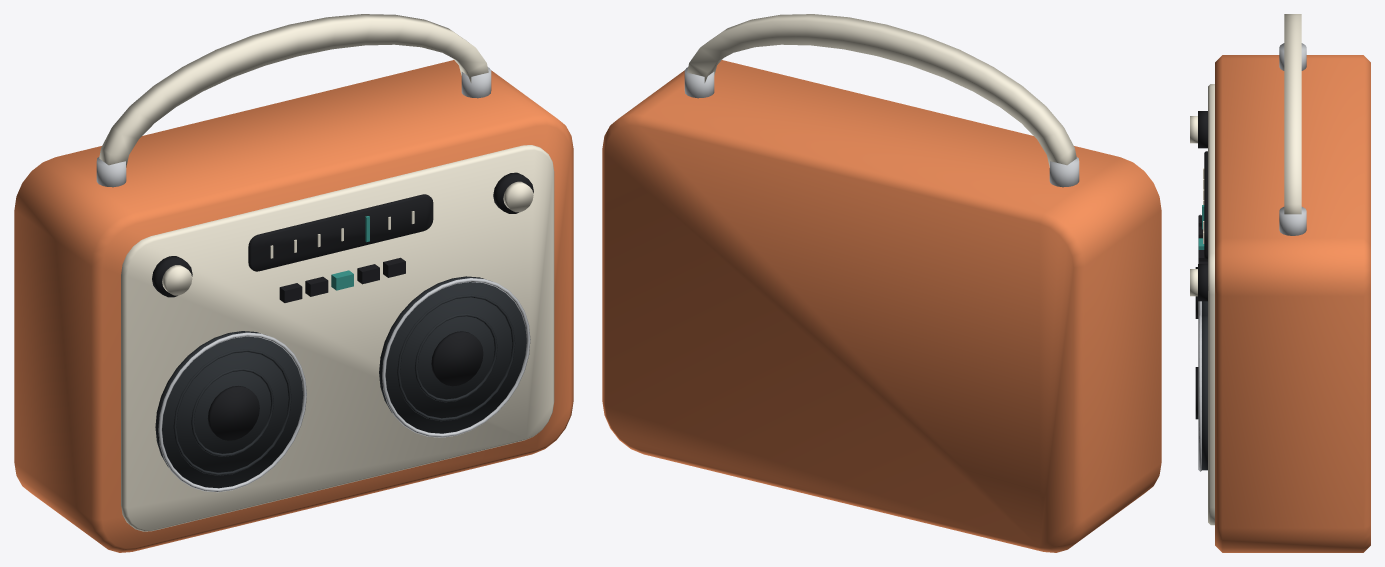
Rendered from radio.glb.
3 views of the same model, side by side, from view 1: azimuth 30°, elevation 25°; view 2: azimuth 150°, elevation 25°; view 3: azimuth 270°, elevation 25° (orthographic). The views are drawn at different scales.
Visible parts, largest first — view 1: Radio | body, Radio | front panel, Speaker | right grille, Speaker | left grille, Handle | arched bar, Controls | tuning window, Speaker | right cone, Speaker | left cone, Speaker | left chrome ring, Speaker | right chrome ring, Speaker | left grille detail 2, Speaker | right grille detail 2 (+6 smaller); view 2: Radio | body, Handle | arched bar, Handle | left post, Handle | right post; view 3: Radio | body, Handle | arched bar, Radio | front panel, Speaker | right grille, Handle | right post, Speaker | right chrome ring, Controls | tuning window, Controls | left knob base, Controls | right knob base, Handle | left post.
Part boxes in pixels (x1=…): Radio | body: x1=14, y1=60, x2=573, y2=552; Radio | front panel: x1=121, y1=145, x2=554, y2=531; Speaker | right grille: x1=379, y1=276, x2=526, y2=433; Speaker | left grille: x1=155, y1=331, x2=303, y2=488; Handle | arched bar: x1=99, y1=14, x2=488, y2=167; Controls | tuning window: x1=248, y1=194, x2=433, y2=271; Speaker | right cone: x1=431, y1=331, x2=483, y2=386; Speaker | left cone: x1=207, y1=386, x2=259, y2=440; Speaker | left chrome ring: x1=158, y1=332, x2=306, y2=492; Speaker | right chrome ring: x1=382, y1=278, x2=530, y2=437; Speaker | left grille detail 2: x1=173, y1=349, x2=291, y2=475; Speaker | right grille detail 2: x1=397, y1=294, x2=515, y2=421; Radio | body: x1=602, y1=60, x2=1161, y2=552; Handle | arched bar: x1=687, y1=14, x2=1076, y2=167; Handle | left post: x1=1049, y1=157, x2=1079, y2=187; Handle | right post: x1=684, y1=67, x2=714, y2=98; Radio | body: x1=1215, y1=55, x2=1370, y2=552; Handle | arched bar: x1=1284, y1=14, x2=1301, y2=214; Radio | front panel: x1=1208, y1=84, x2=1214, y2=525; Speaker | right grille: x1=1202, y1=316, x2=1207, y2=470; Handle | right post: x1=1279, y1=207, x2=1306, y2=235; Speaker | right chrome ring: x1=1198, y1=314, x2=1201, y2=471; Controls | tuning window: x1=1204, y1=151, x2=1207, y2=259; Controls | left knob base: x1=1198, y1=111, x2=1207, y2=148; Controls | right knob base: x1=1198, y1=264, x2=1207, y2=301; Handle | left post: x1=1279, y1=43, x2=1306, y2=70.
Size of the model in its own units: 0.41 by 0.363 by 0.145.
